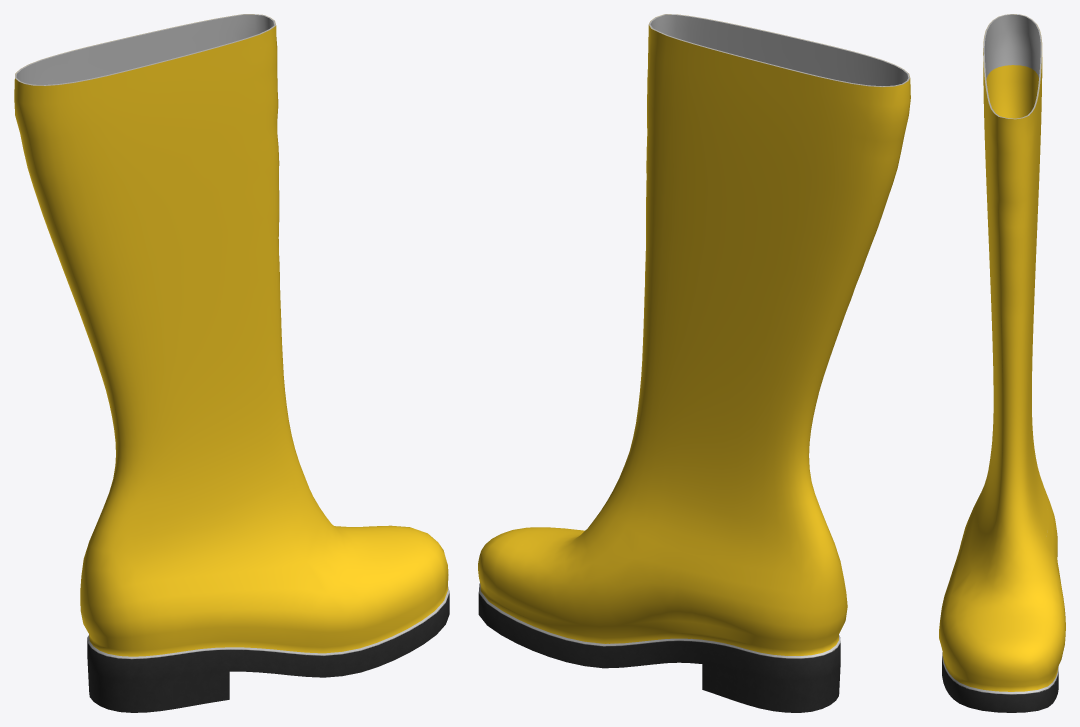
File: RainBoot01.fbx
3 renders of one model, left to right at view 1: azimuth 30°, elevation 25°; view 2: azimuth 150°, elevation 25°; view 3: azimuth 270°, elevation 25°, orthographic. The views are drawn at different scales.
Visible parts, largest first — view 1: Boot01_Right; view 2: Boot01_Right; view 3: Boot01_Right.
Part boxes in pixels (<box>): Boot01_Right: <box>14,14,449,712</box>; Boot01_Right: <box>478,14,910,712</box>; Boot01_Right: <box>939,14,1065,712</box>.
Bounding box in the file's own units: 25.5 × 36.91 × 7.83.
Materials: 1 (1 with a texture image).
